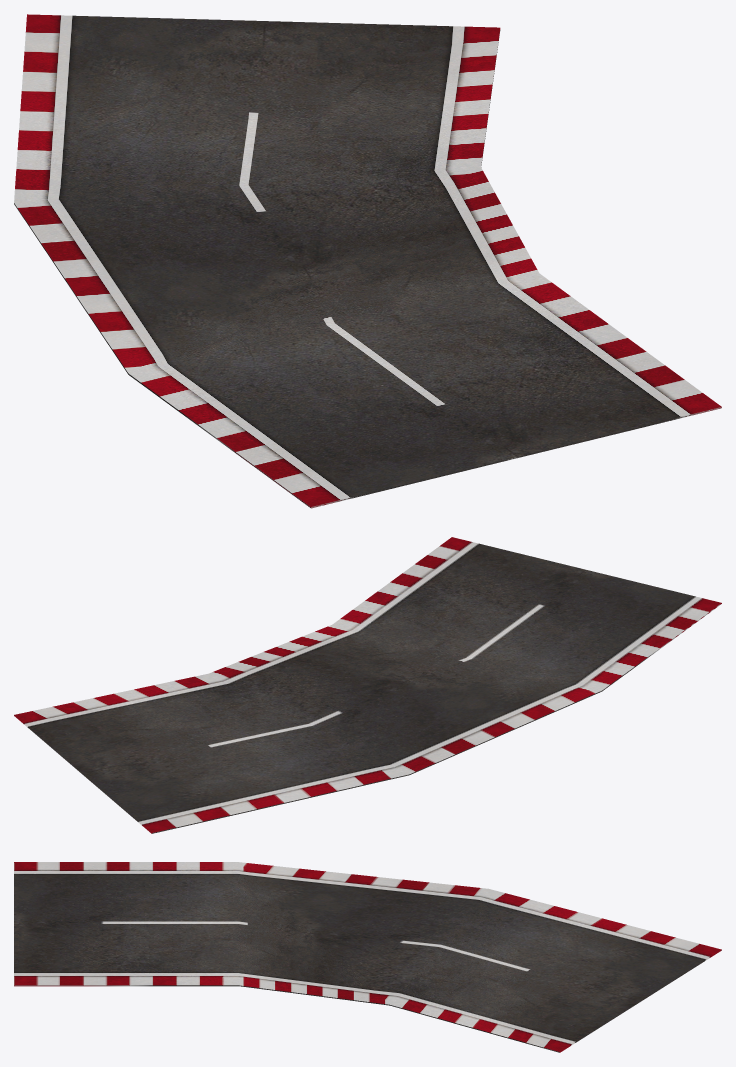
The model's file is road_B.FBX.
3 renders of one model, top to bottom at view 1: azimuth 30°, elevation 25°; view 2: azimuth 150°, elevation 25°; view 3: azimuth 270°, elevation 25°, orthographic. The views are drawn at different scales.
Visible parts, largest first — view 1: road_B; view 2: road_B; view 3: road_B.
Part boxes in pixels (box(x1,y1,x2,y2)): road_B: box(14, 14, 721, 508); road_B: box(14, 537, 721, 833); road_B: box(14, 862, 721, 1052).
Bounding box in the file's own units: 971 × 1.97 × 1529.
